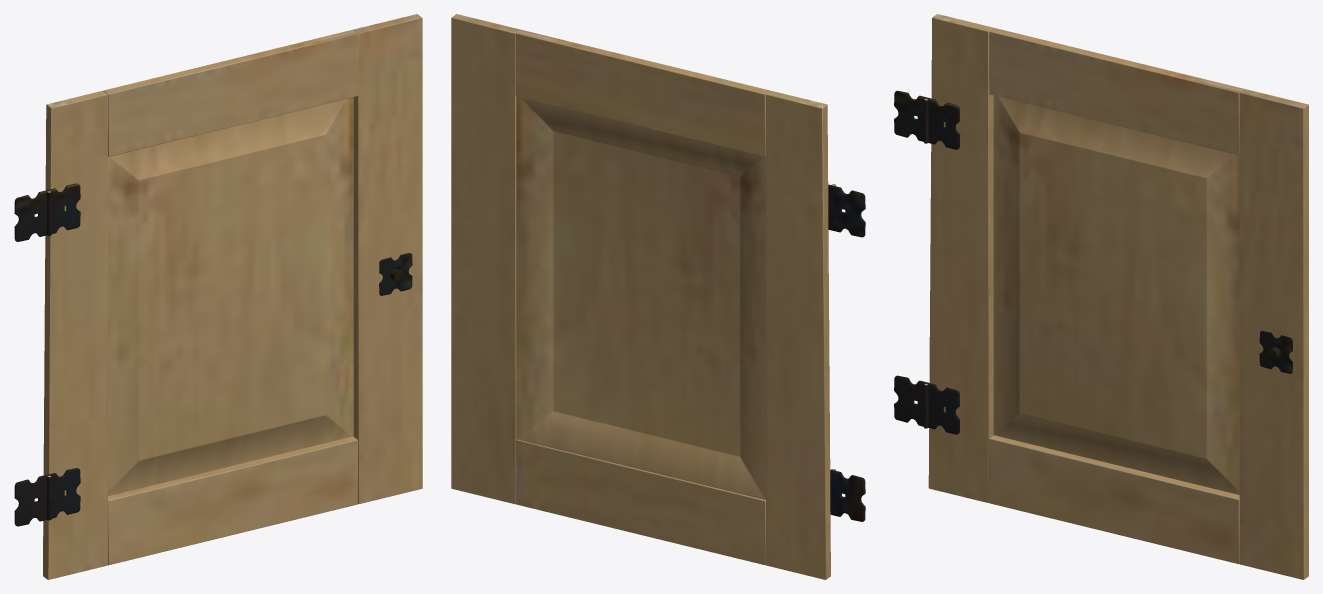
Rendered from door.glb.
3 views of the same model, side by side, from view 1: azimuth 30°, elevation 25°; view 2: azimuth 150°, elevation 25°; view 3: azimuth 330°, elevation 25° (orthographic).
Parts seen in each view (by area): view 1: world; view 2: world; view 3: world.
Boxes of the visible parts, x1,y1,x2,y2 form: world: [14, 14, 422, 579]; world: [451, 14, 865, 579]; world: [894, 14, 1308, 579].
Bounding box in the file's own units: 0.3737 × 0.4124 × 0.0152.
1 material, 1 textured.
